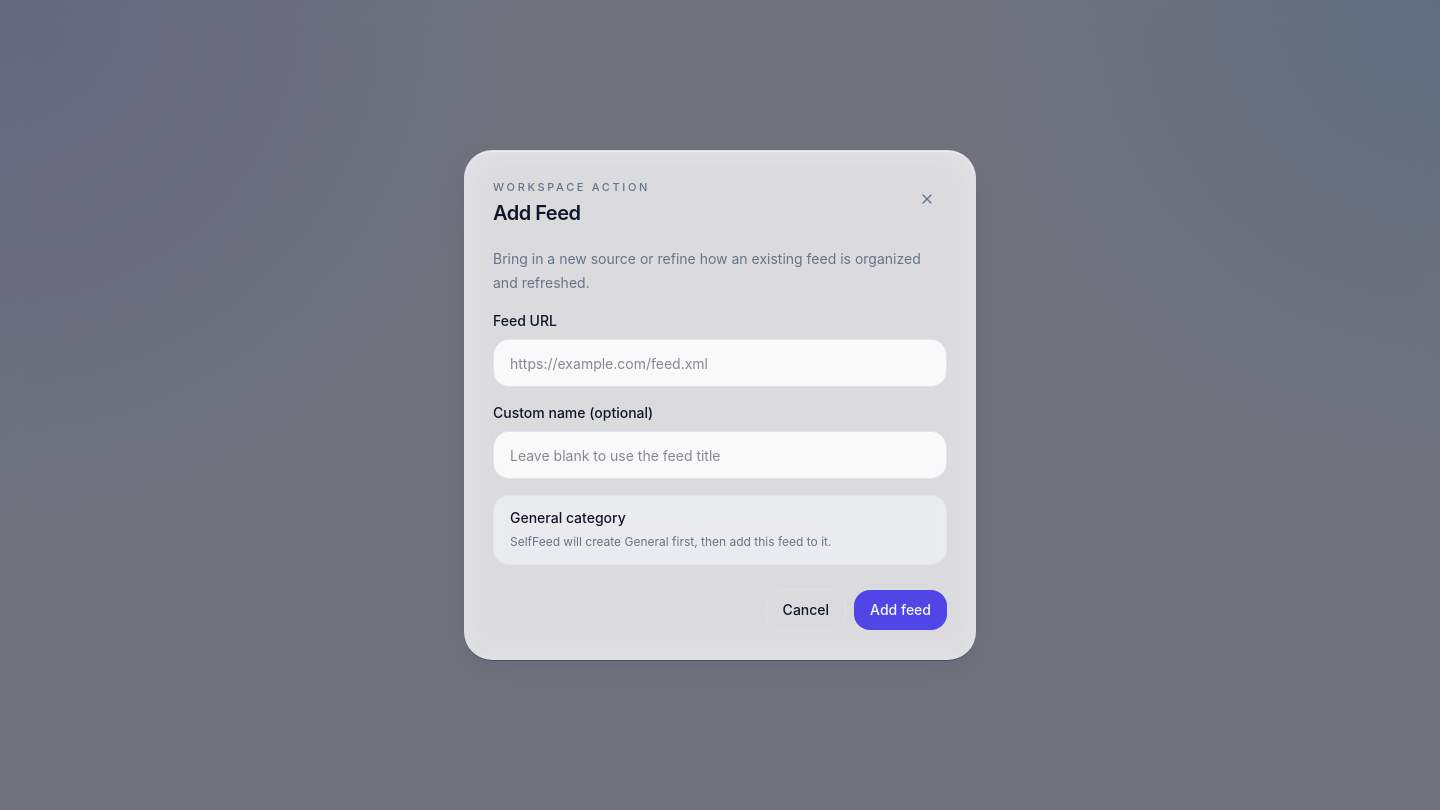
Test case: FeedDialog - add mode › creates a General category before adding the first feed
Expected: the element named "Default feed category" shows "SelfFeed will create General first", [510,534,831,549]
Type "https://example.com/first.xml" into the field labelled "Feed URL". click: (720, 363)
box: [493,339,947,387]
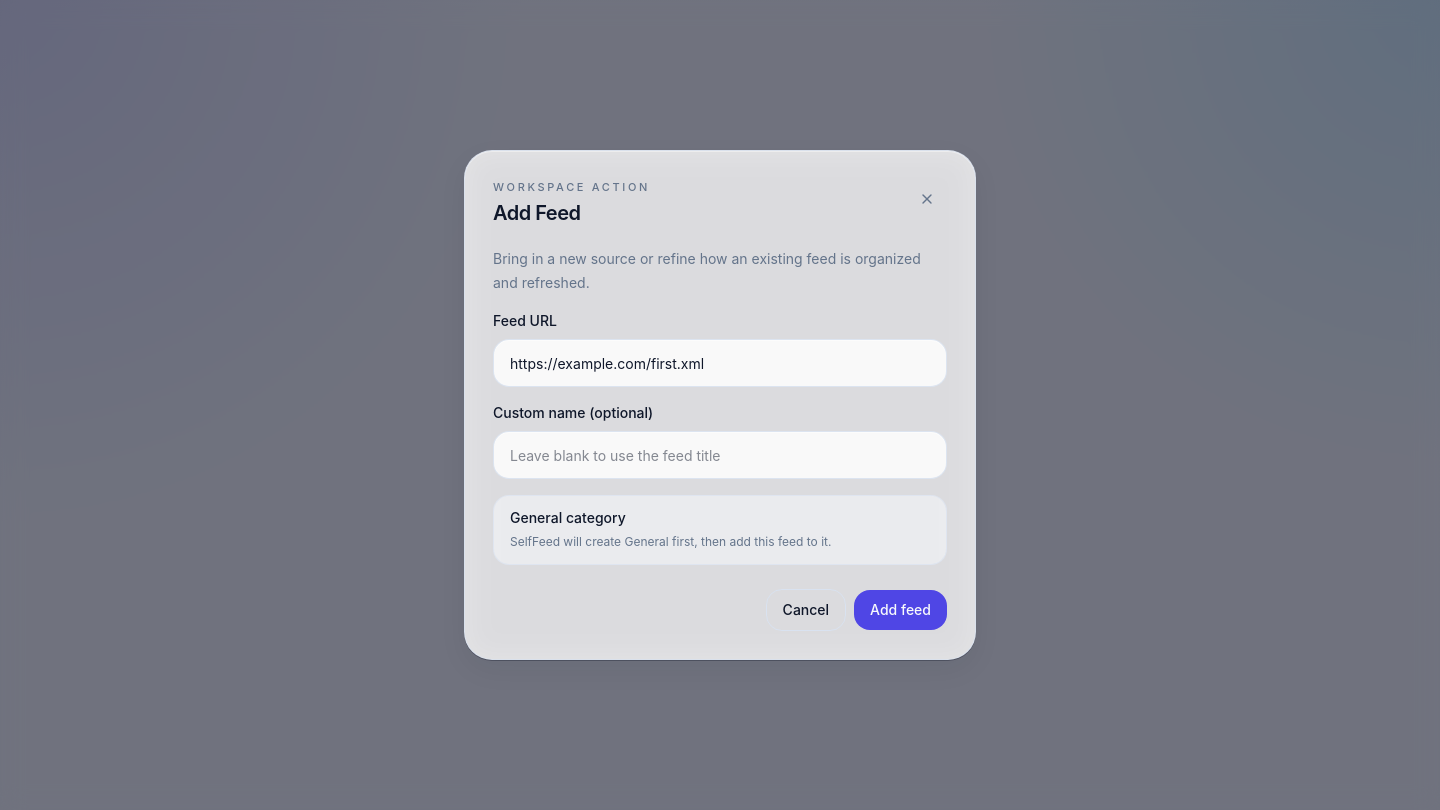
Type "My first feed" into the field labelled "Custom name (optional)". click: (720, 455)
box: [493,431,947,479]
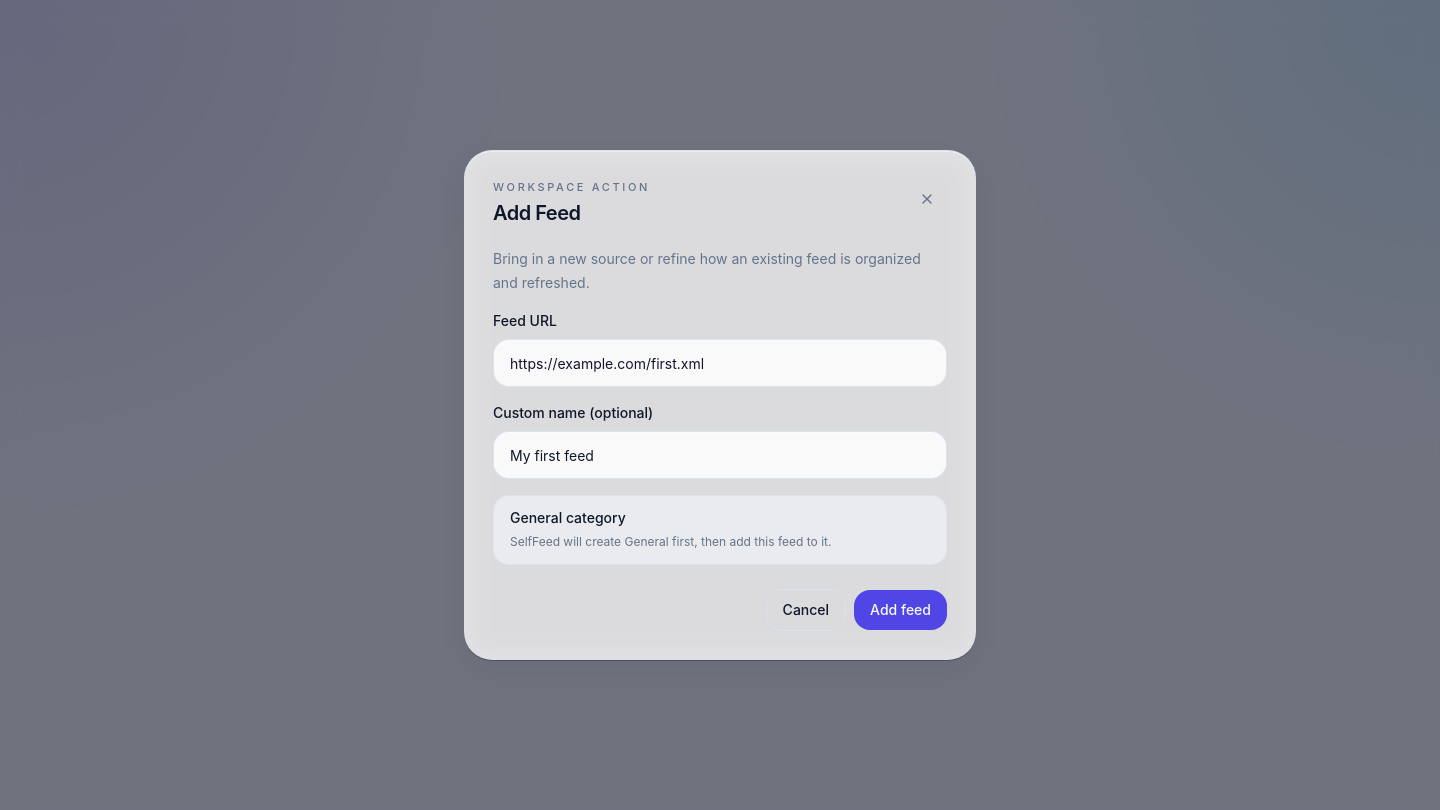
Click the button "Add feed". click: (901, 610)
box: [854,590,947,630]
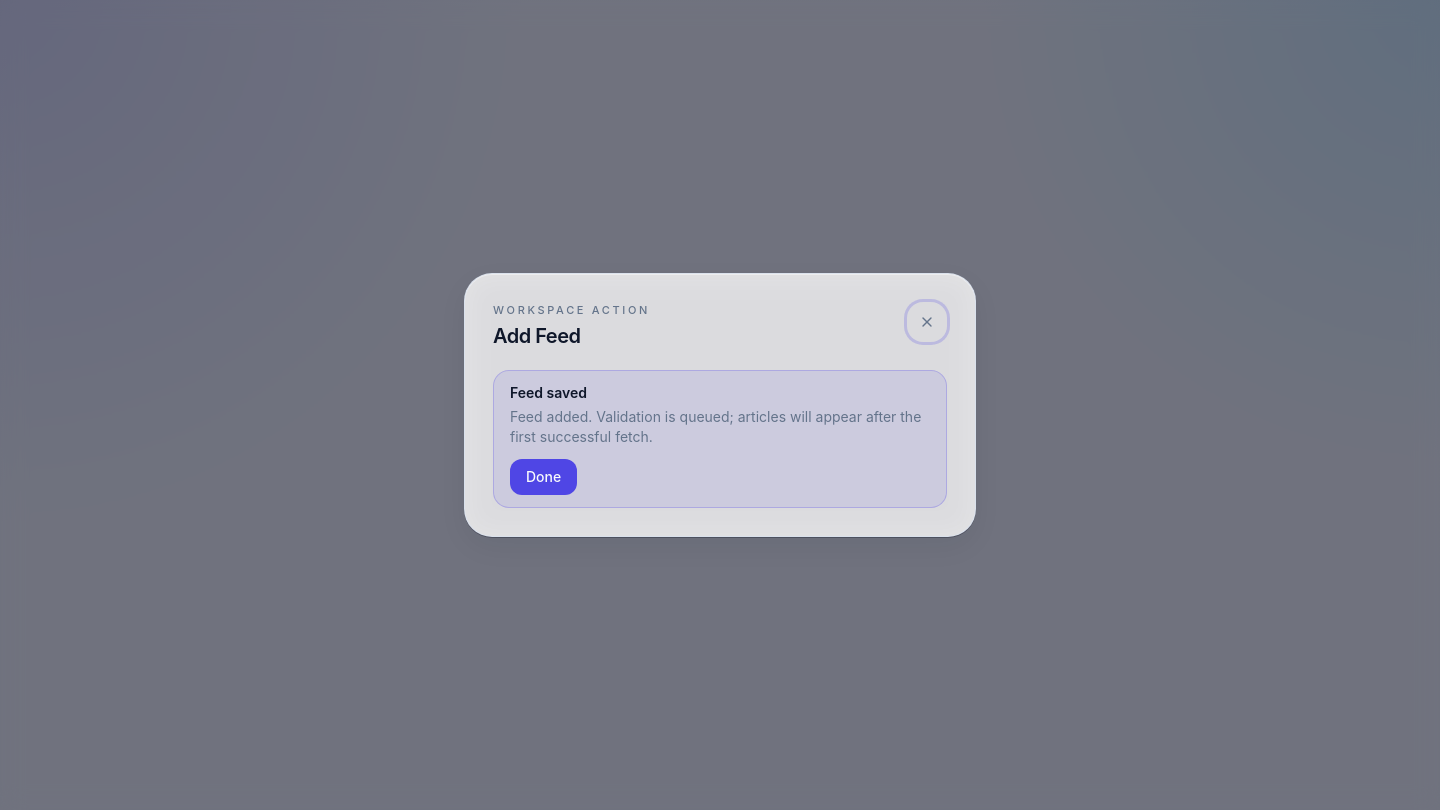
Expected: the text "Validation is queued" is shown, [510,408,921,445]
